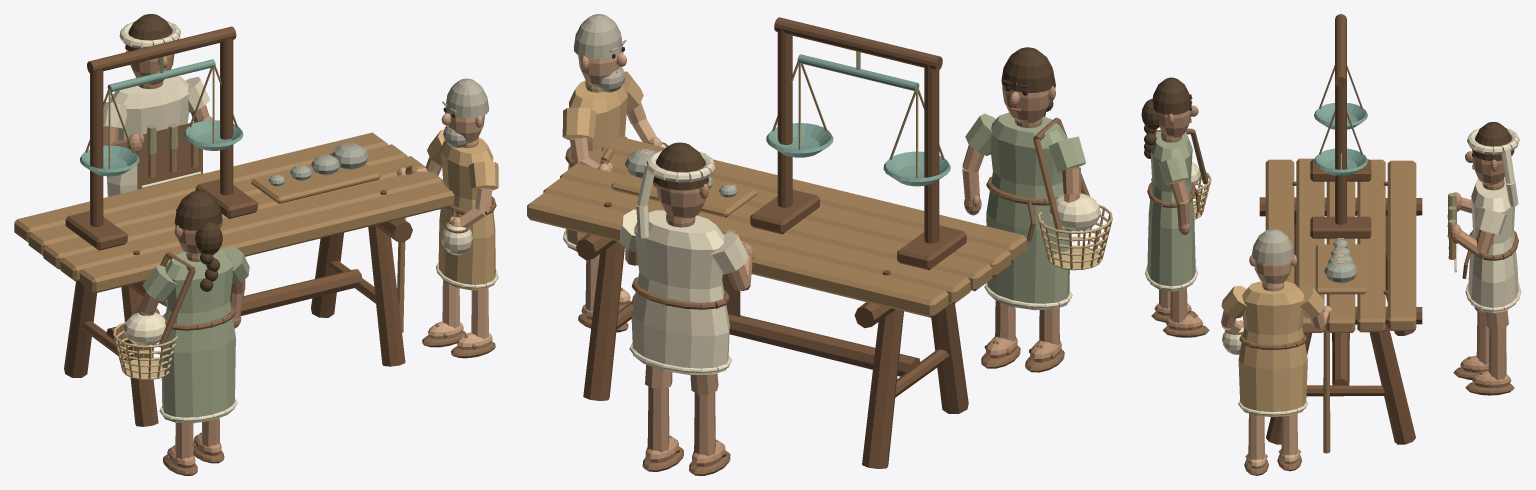
3 views of the same model, side by side, from view 1: azimuth 30°, elevation 25°; view 2: azimuth 150°, elevation 25°; view 3: azimuth 270°, elevation 25° (orthographic). The views are drawn at different scales.
Visible parts, largest first — view 1: BA-0098 batched; view 2: BA-0098 batched; view 3: BA-0098 batched.
Part boxes in pixels (x1,y1,x2,y2): BA-0098 batched: (14, 14, 498, 475); BA-0098 batched: (527, 14, 1112, 475); BA-0098 batched: (1141, 14, 1521, 475).
Bounding box in the file's own units: 2.62 × 2.02 × 2.24.
